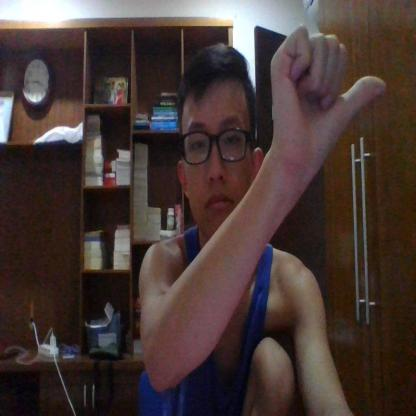left: (270, 24, 387, 165)
